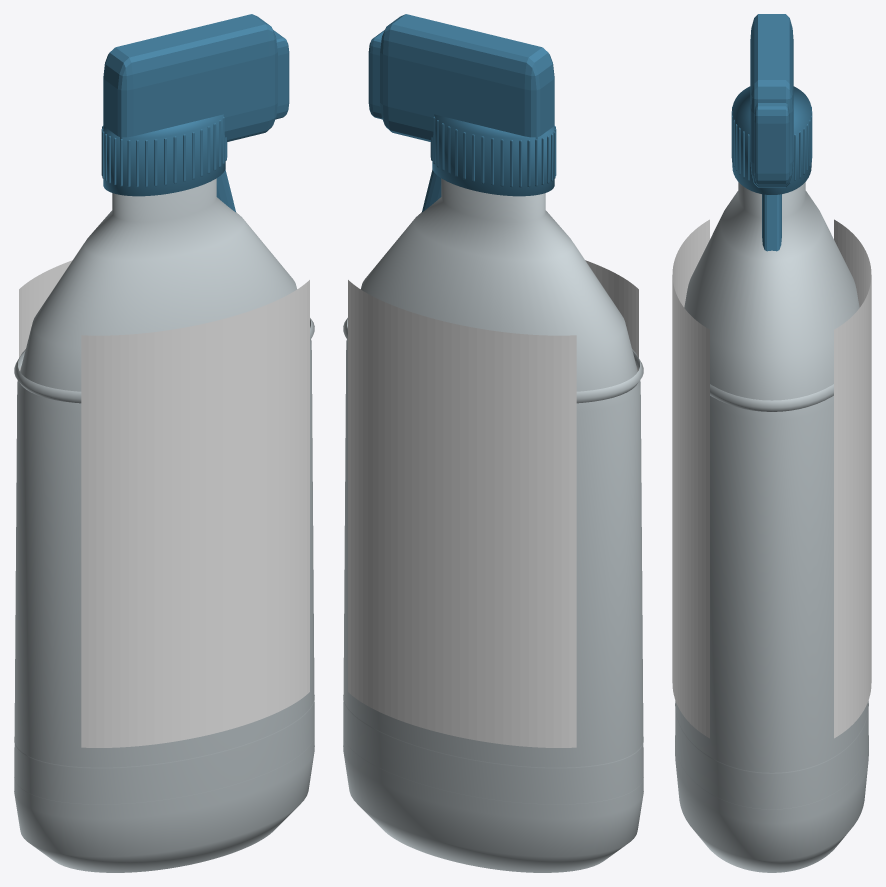
The model's file is cleaning-spray.glb.
3 views of the same model, side by side, from view 1: azimuth 30°, elevation 25°; view 2: azimuth 150°, elevation 25°; view 3: azimuth 270°, elevation 25° (orthographic).
Parts seen in each view (by area): view 1: LabelFront, Moulded container, Threaded closure, LabelBack; view 2: LabelBack, Moulded container, Threaded closure, LabelFront; view 3: Moulded container, LabelFront, LabelBack, Threaded closure.
Boxes of the visible parts, x1,y1,x2,y2 form: LabelFront: (81, 280, 309, 747); Moulded container: (14, 178, 314, 872); Threaded closure: (101, 14, 289, 212); LabelBack: (19, 260, 72, 370); LabelBack: (348, 280, 576, 747); Moulded container: (343, 178, 643, 872); Threaded closure: (368, 14, 556, 212); LabelFront: (585, 260, 638, 370); Moulded container: (675, 182, 868, 872); LabelFront: (672, 219, 709, 738); LabelBack: (834, 219, 871, 738); Threaded closure: (731, 14, 812, 251).
Bounding box in the file's own units: 0.4116 × 1.09 × 0.2515.
